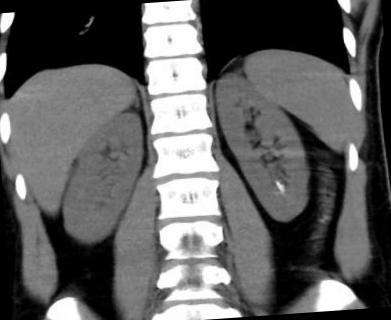Tas_Var: (274, 184, 285, 193), (276, 182, 281, 186)
